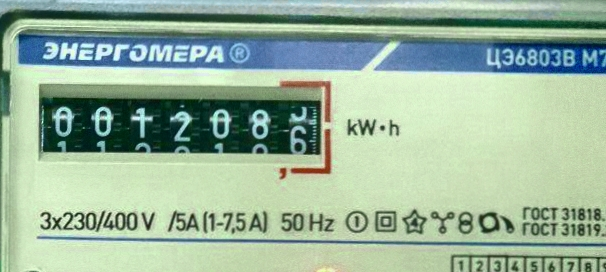0: (208, 105, 233, 140), (91, 101, 114, 138), (53, 101, 73, 138)
1: (132, 103, 149, 140)
2: (169, 108, 195, 143)
6: (286, 120, 309, 155)
8: (247, 106, 270, 142)
screen: (28, 70, 340, 189)
